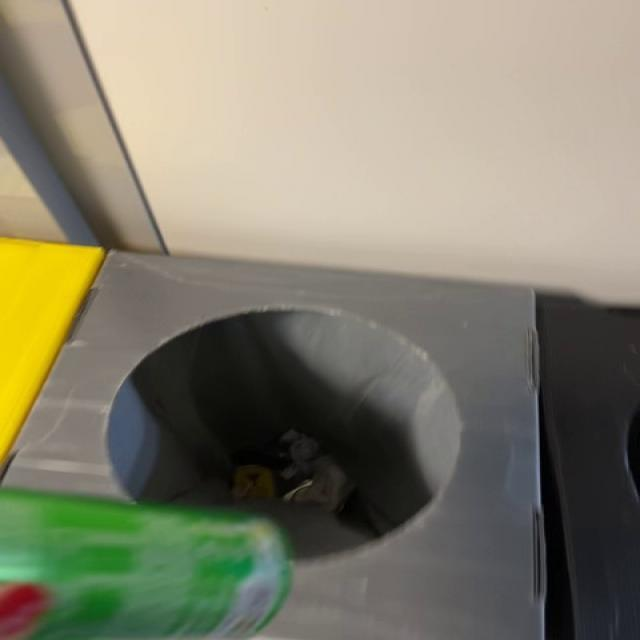Bin: (3, 252, 544, 640)
Metal: (1, 492, 289, 640)
